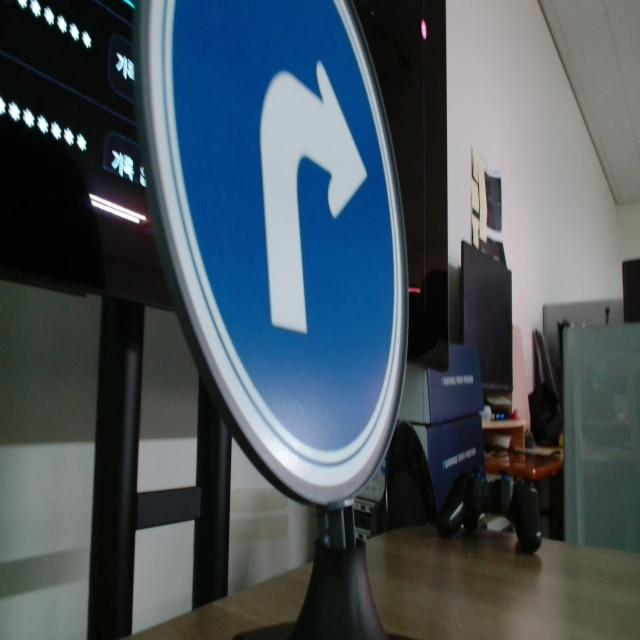right_dierection: (127, 0, 422, 517)
